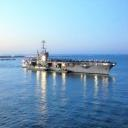Portanaves: (22, 40, 118, 76)
